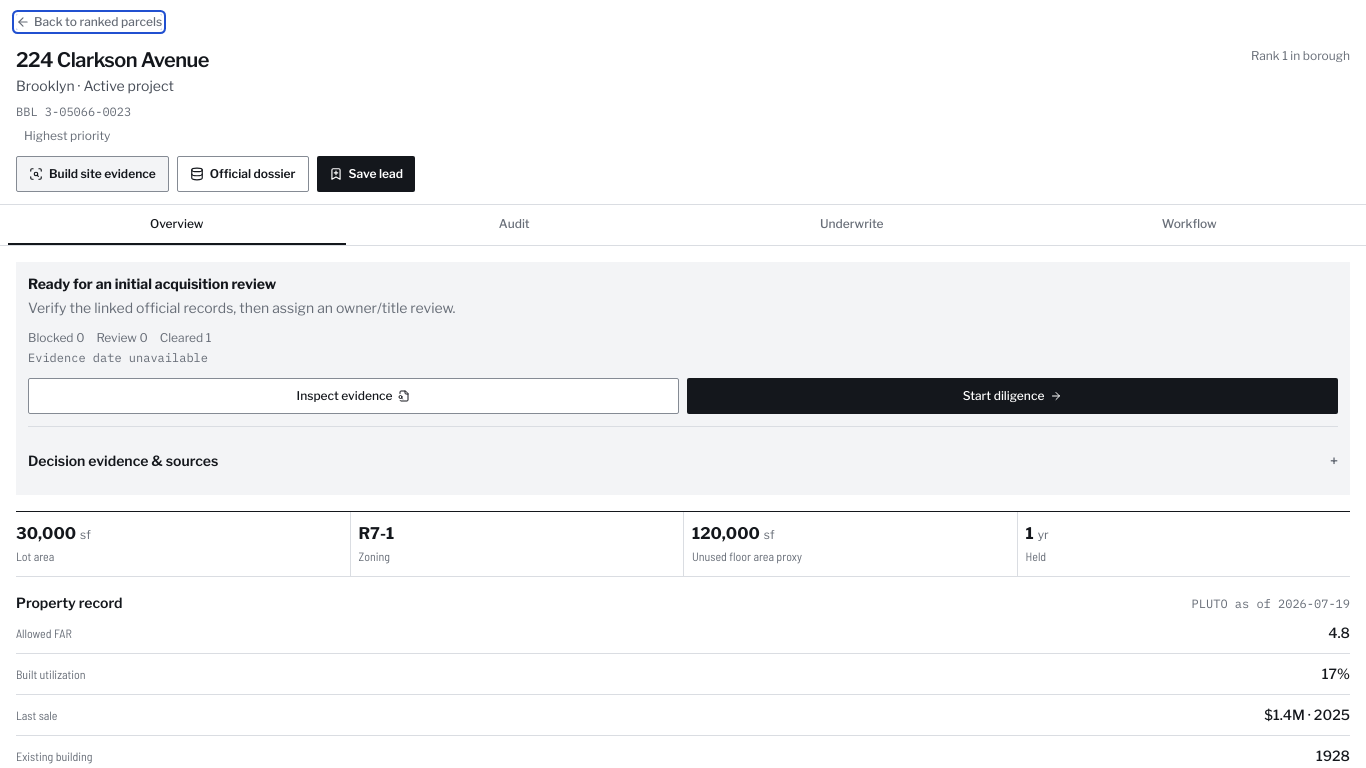
Test: ParcelIntelPropertyPanel › starts recommended diligence from the decision brief without copying source facts
What coordinates should you click on to do the following:
click the button with test id "parcel-decision-next-action"
I would click on:
 (1012, 396)
Its box is x1=687 y1=378 x2=1338 y2=414.
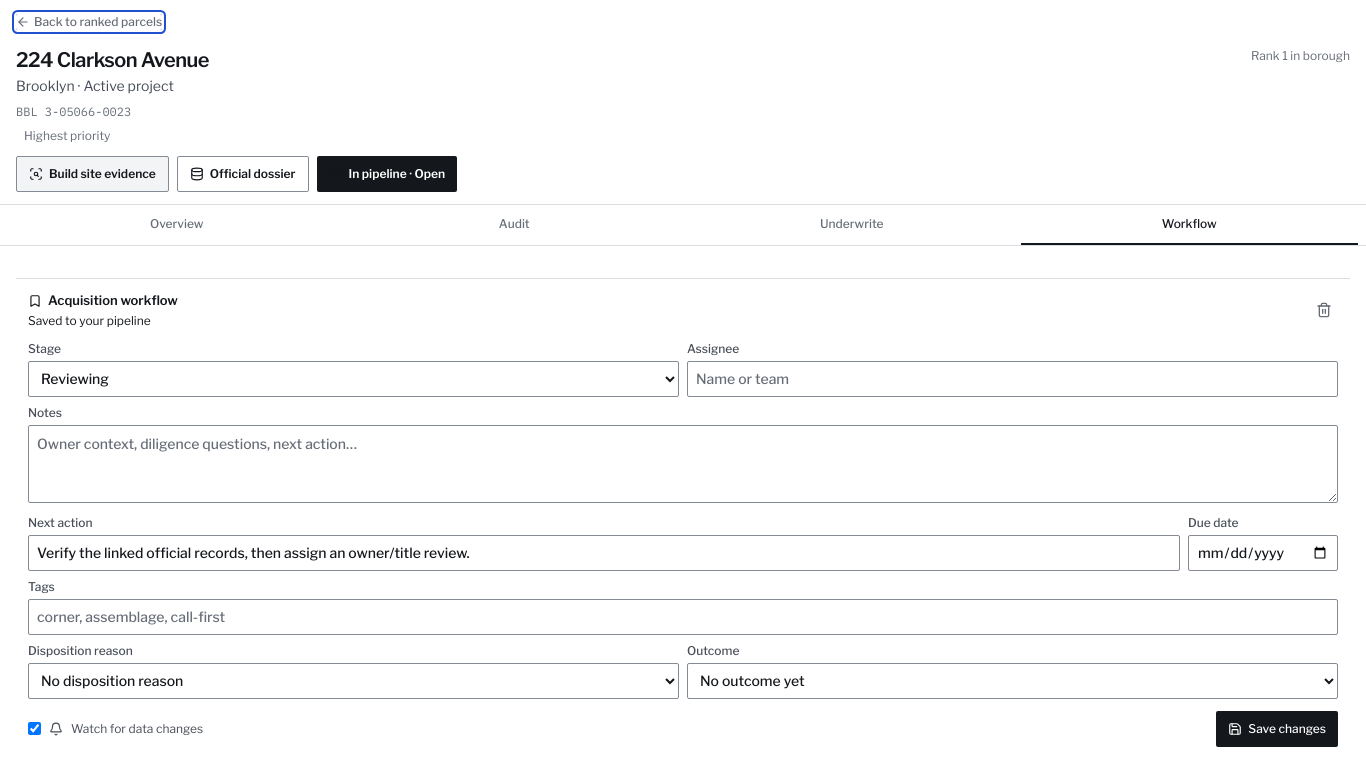
Expected: the text "Saved to your pipeline" is shown, x1=28 y1=312 x2=151 y2=328
